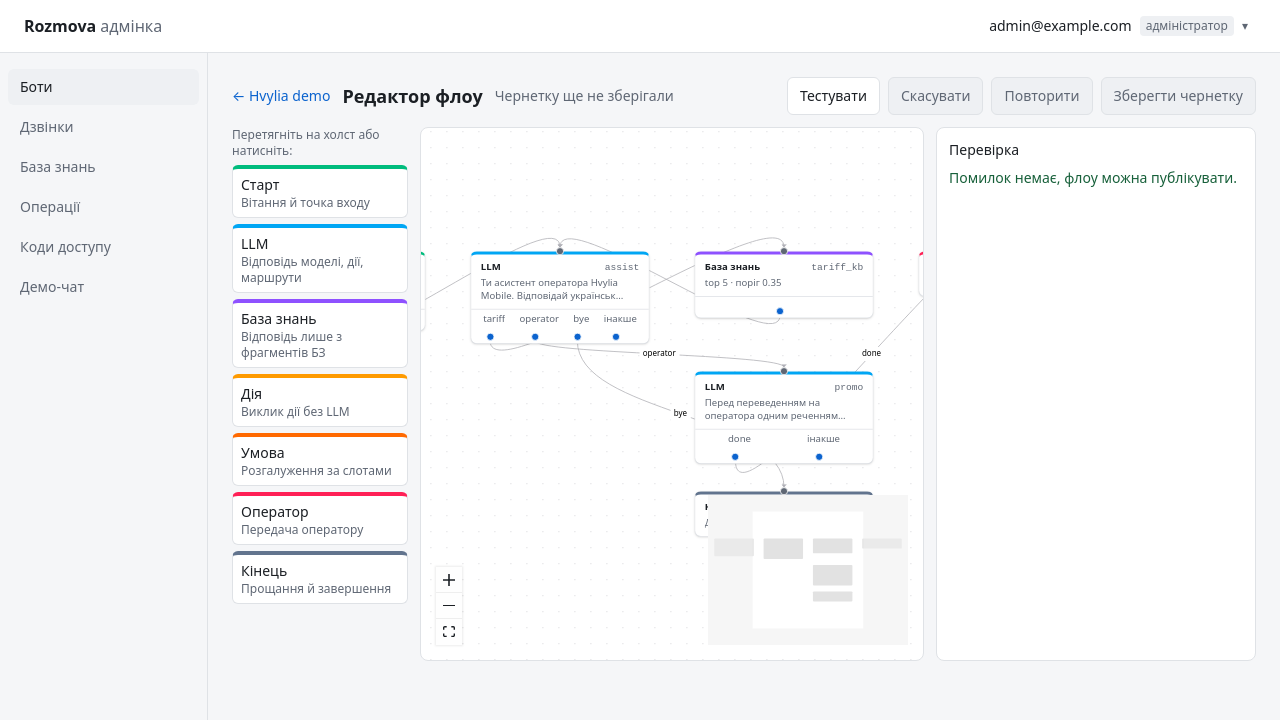
Test: unsaved changes are saved before a test when asked
The image size is (1280, 720).
Expected: the element with test id "node-assist" is shown, [470,251,650,344]
Click the button "Тестувати". click: (834, 96)
box: [787,77,880,115]
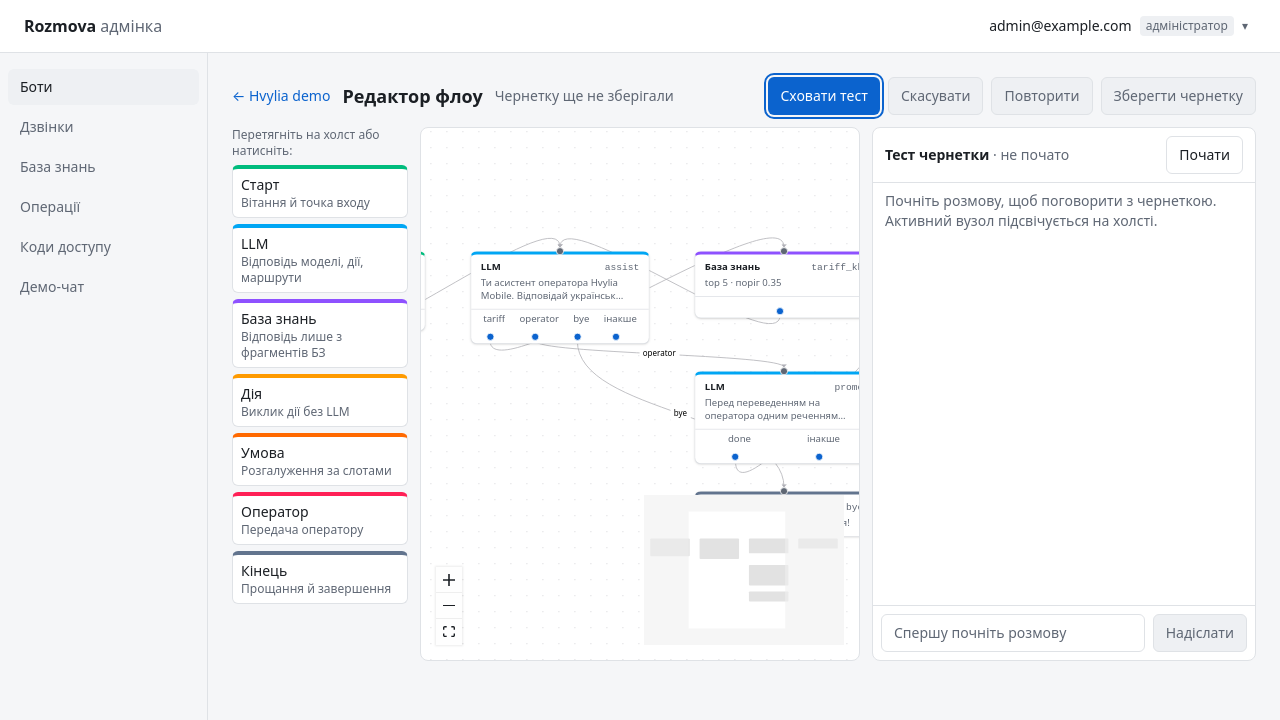
Click the button "Кінець Прощання й завершення". click: (320, 578)
box: [232,551,408,604]
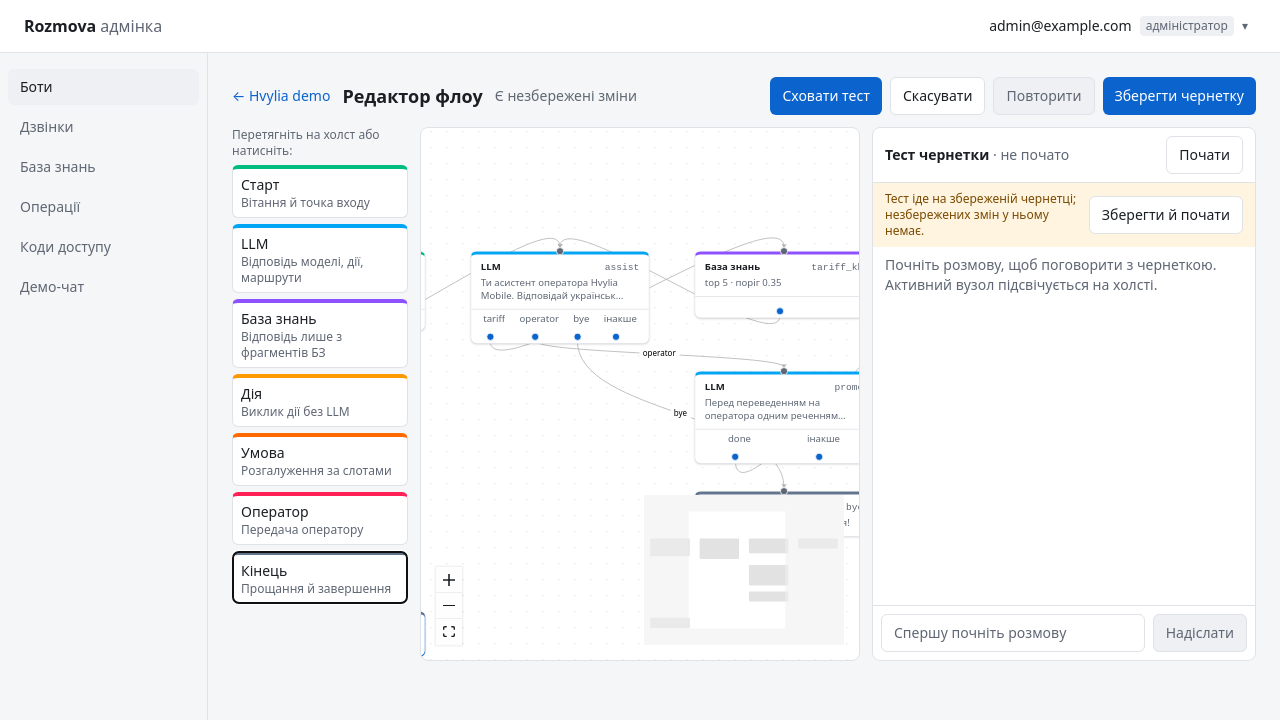
Result: the element named "Тестова консоль" shows "Тест іде на збереженій чернетці" at [885,190,1076,239]
Click the button "Зберегти й почати". click: (1166, 215)
box: [1089,196,1243,234]
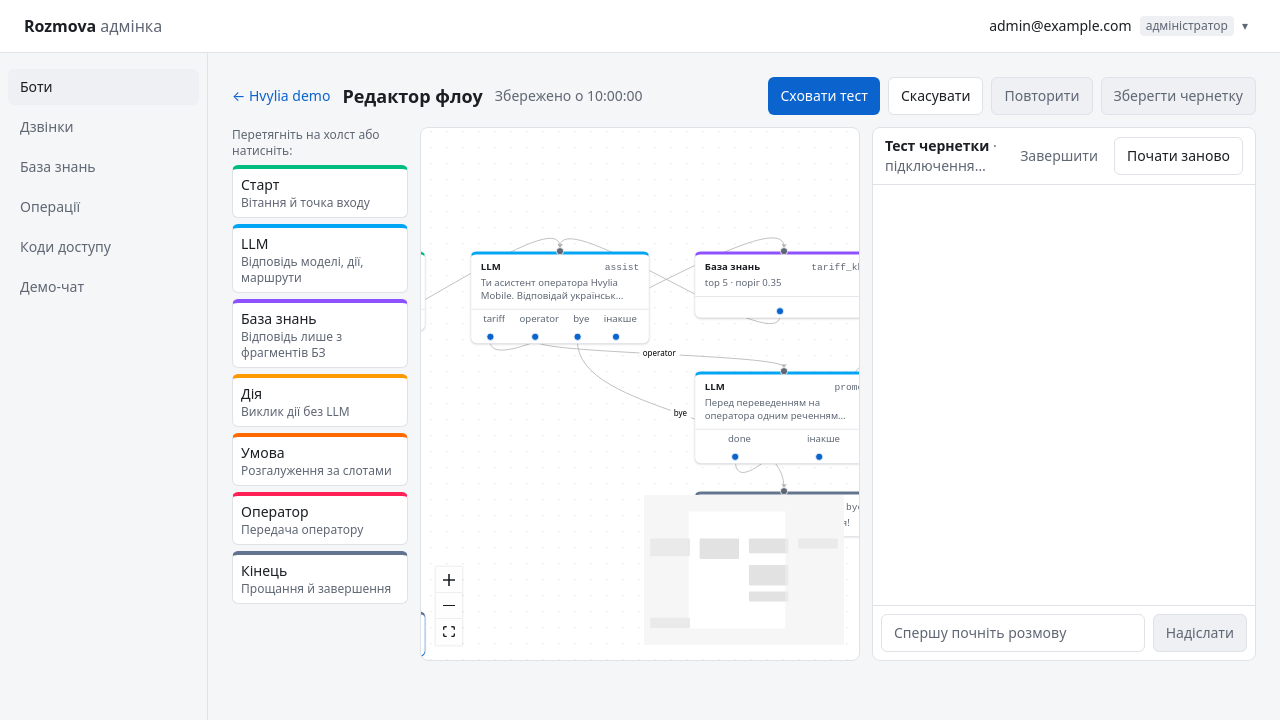
Result: the element named "Тестова консоль" no longer shows "Тест іде на збереженій чернетці" at [872,127,1256,661]
